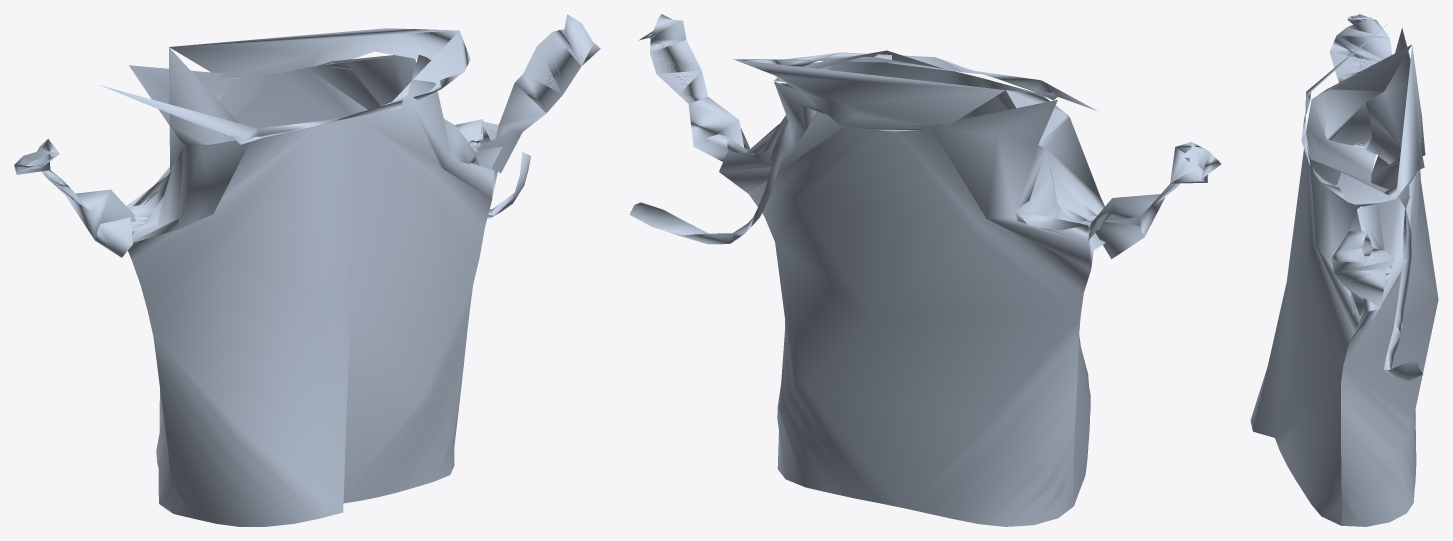
Rendered from frame_038.glb.
The picture shows the model from 3 angles, left to right: view 1: azimuth 30°, elevation 25°; view 2: azimuth 150°, elevation 25°; view 3: azimuth 270°, elevation 25°; orthographic projection. The views are drawn at different scales.
Visible parts, largest first — view 1: panel.front, panel.back, panel.neck_band, panel.sleeve.right, panel.sleeve.left; view 2: panel.back, panel.neck_band, panel.front, panel.sleeve.right, panel.sleeve.left; view 3: panel.front, panel.back, panel.neck_band, panel.sleeve.right, panel.sleeve.left.
Part boxes in pixels (x1=…): panel.front: x1=128, y1=47, x2=494, y2=526; panel.back: x1=126, y1=56, x2=497, y2=513; panel.neck_band: x1=99, y1=28, x2=530, y2=218; panel.sleeve.right: x1=476, y1=14, x2=600, y2=173; panel.sleeve.left: x1=14, y1=139, x2=136, y2=257; panel.back: x1=719, y1=83, x2=1095, y2=526; panel.neck_band: x1=629, y1=52, x2=1096, y2=244; panel.front: x1=774, y1=50, x2=1106, y2=505; panel.sleeve.right: x1=639, y1=14, x2=750, y2=161; panel.sleeve.left: x1=1088, y1=142, x2=1221, y2=258; panel.front: x1=1250, y1=44, x2=1411, y2=525; panel.back: x1=1341, y1=28, x2=1438, y2=526; panel.neck_band: x1=1301, y1=23, x2=1424, y2=380; panel.sleeve.right: x1=1331, y1=231, x2=1394, y2=316; panel.sleeve.left: x1=1329, y1=14, x2=1391, y2=146.
Bounding box in the file's own units: 1.05 × 0.7792 × 0.3493.
